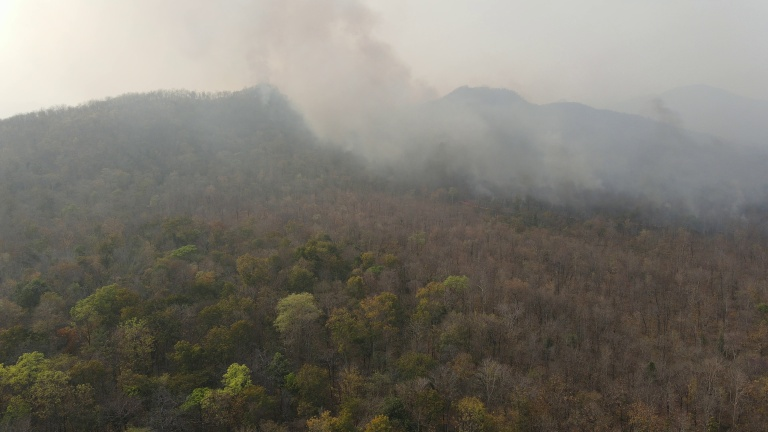smoke: (228, 1, 623, 205), (625, 88, 768, 212), (248, 44, 275, 109)
